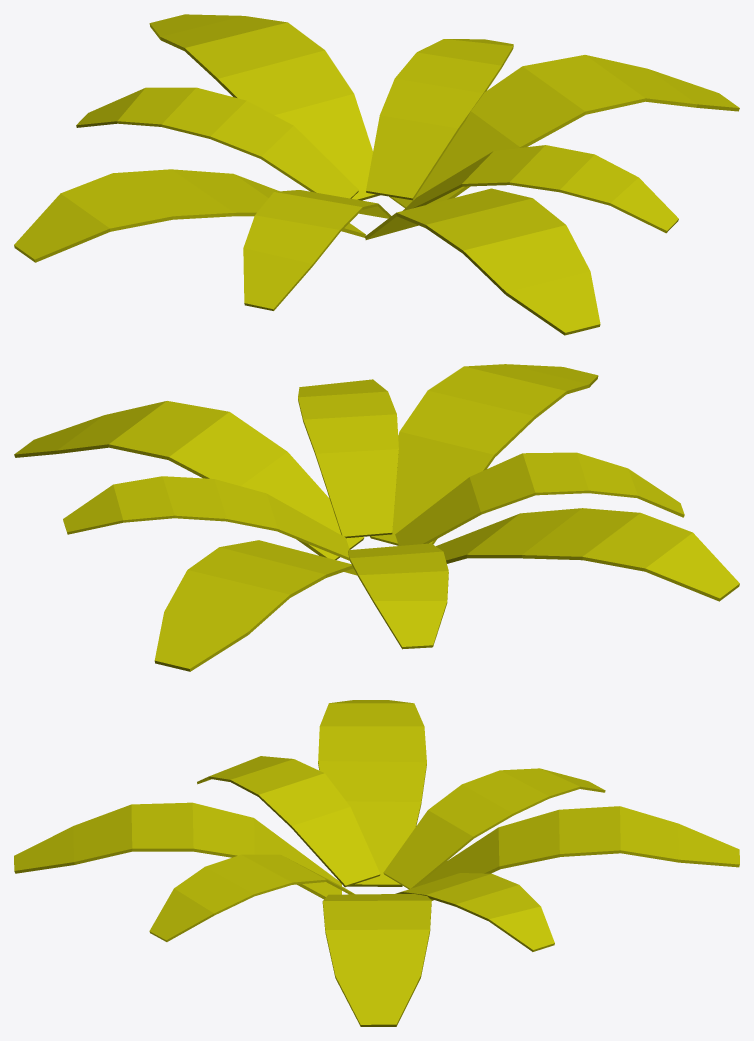
The model's file is Bush_01.fbx.
3 views of the same model, one above another, from view 1: azimuth 30°, elevation 25°; view 2: azimuth 150°, elevation 25°; view 3: azimuth 270°, elevation 25° (orthographic). The views are drawn at different scales.
Visible parts, largest first — view 1: Plane.008; view 2: Plane.008; view 3: Plane.008.
Part boxes in pixels (bbox=[...]): Plane.008: bbox=[14, 14, 739, 335]; Plane.008: bbox=[14, 364, 739, 671]; Plane.008: bbox=[14, 700, 739, 1026].
Size of the model in its own units: 0.8191 by 0.8285 by 0.0944.
Materials: 1 (1 with a texture image).
